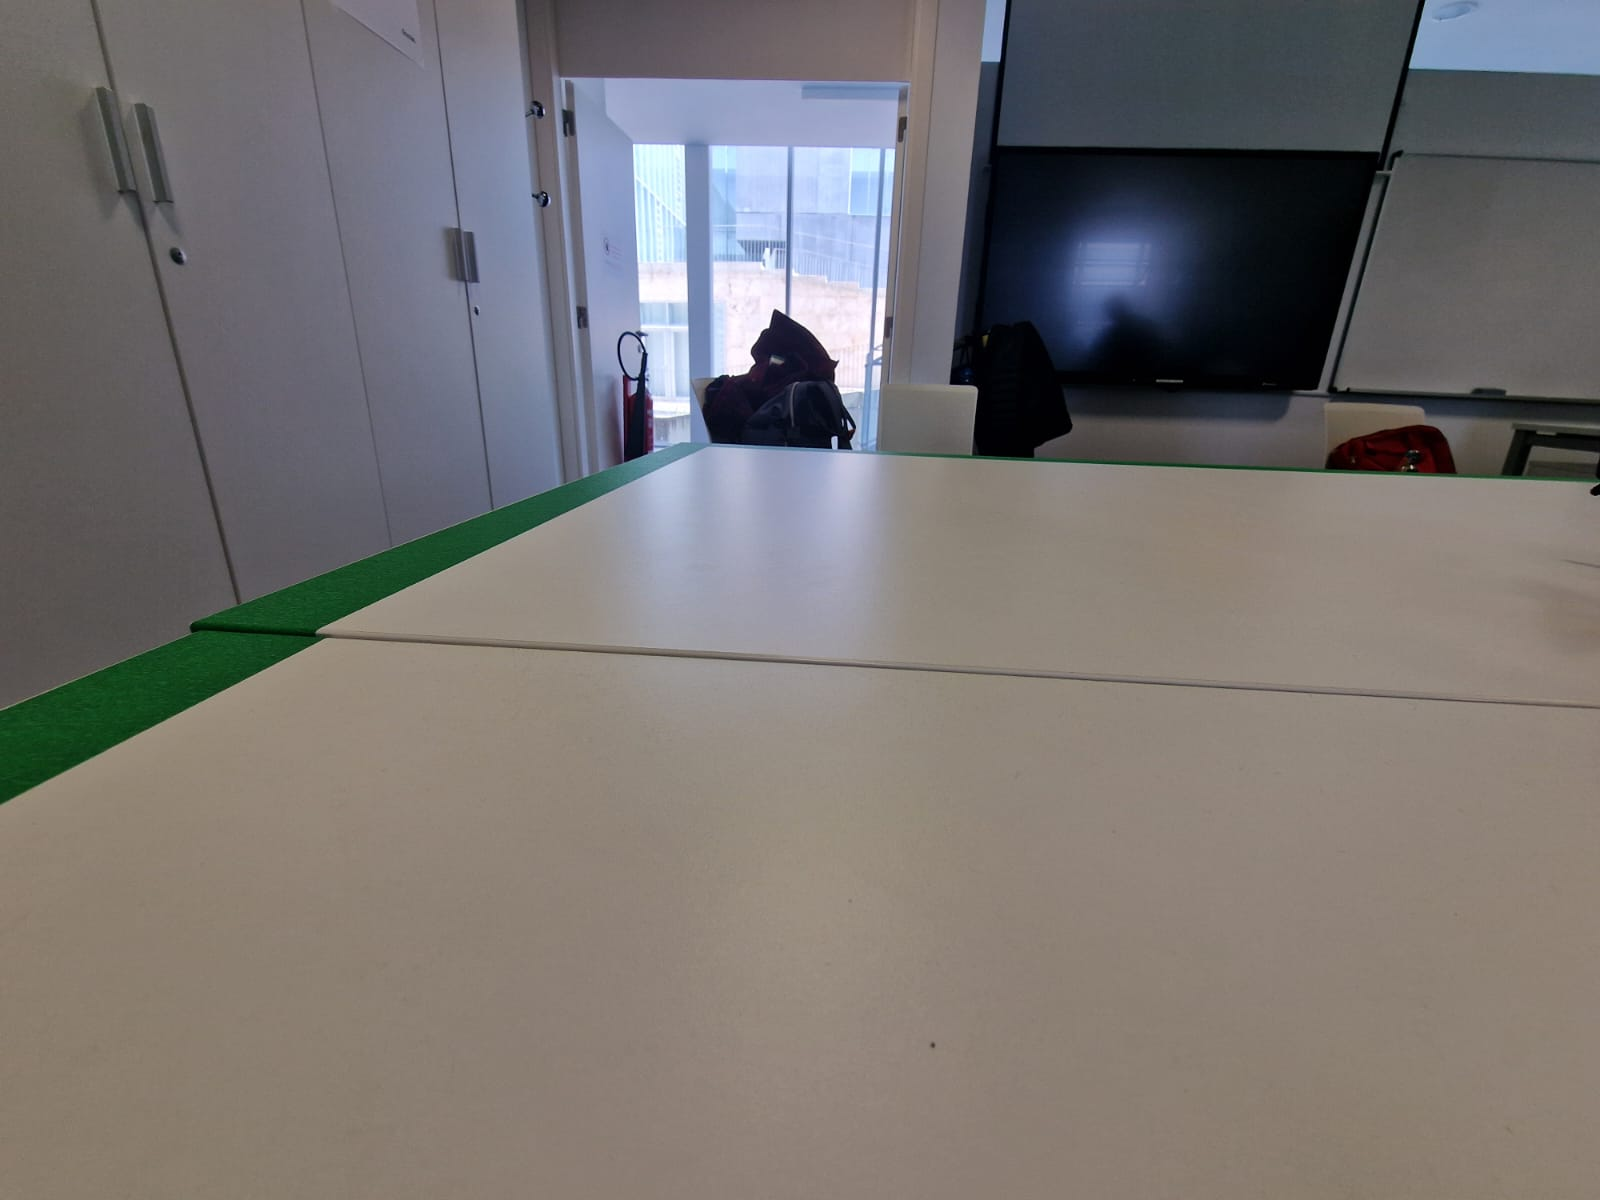linea_cerca: (0, 446, 711, 804)
